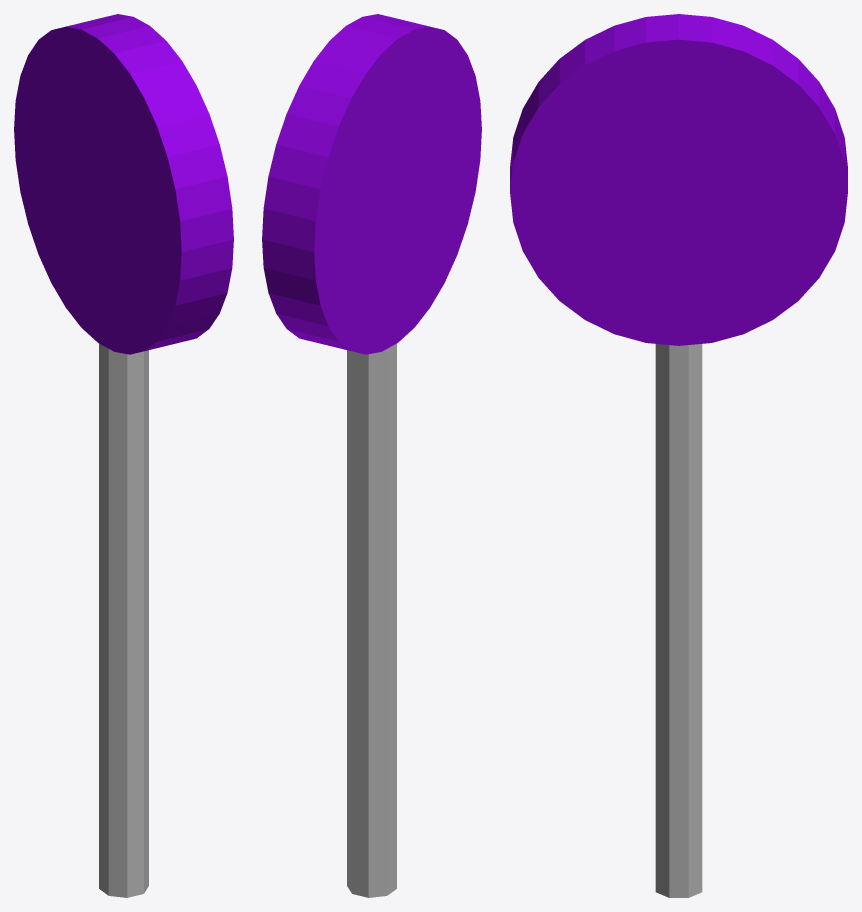
File: Lolipop.fbx
3 renders of one model, left to right at view 1: azimuth 30°, elevation 25°; view 2: azimuth 150°, elevation 25°; view 3: azimuth 270°, elevation 25°, orthographic.
Visible parts, largest first — view 1: Cylinder.001; view 2: Cylinder.001; view 3: Cylinder.001.
Boxes of the visible parts, <box> form: Cylinder.001: <box>14,14,233,897</box>; Cylinder.001: <box>262,14,481,897</box>; Cylinder.001: <box>510,14,847,897</box>.
Size of the model in its own units: 35.93 by 200 by 562.
